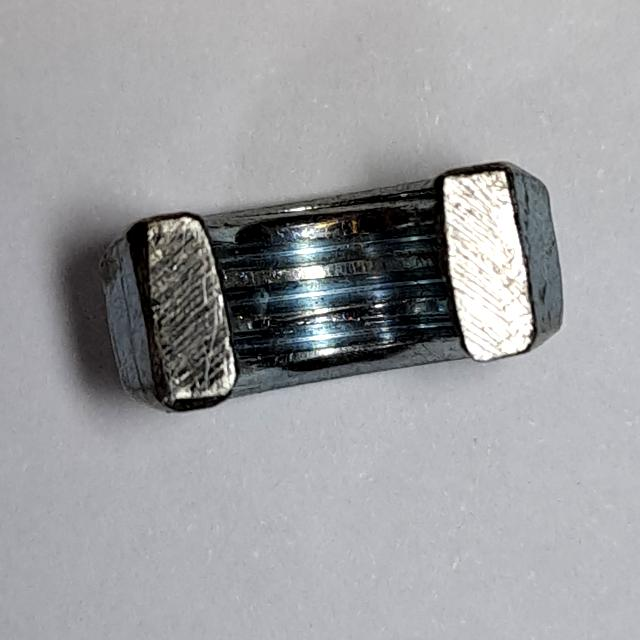Side-Fracture: (87, 154, 577, 432)
